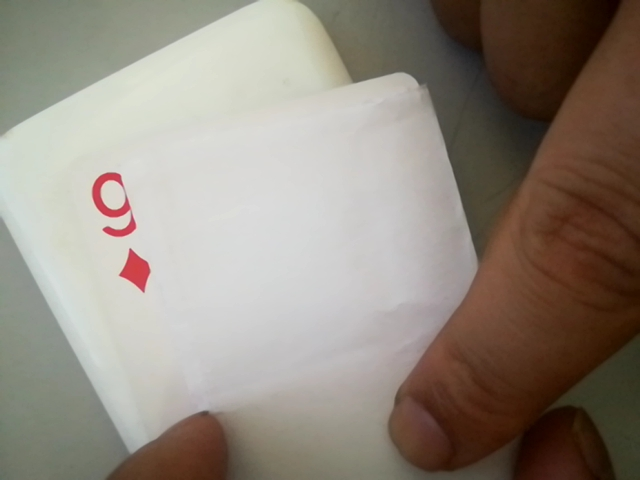fk 9: (81, 165, 160, 297)
